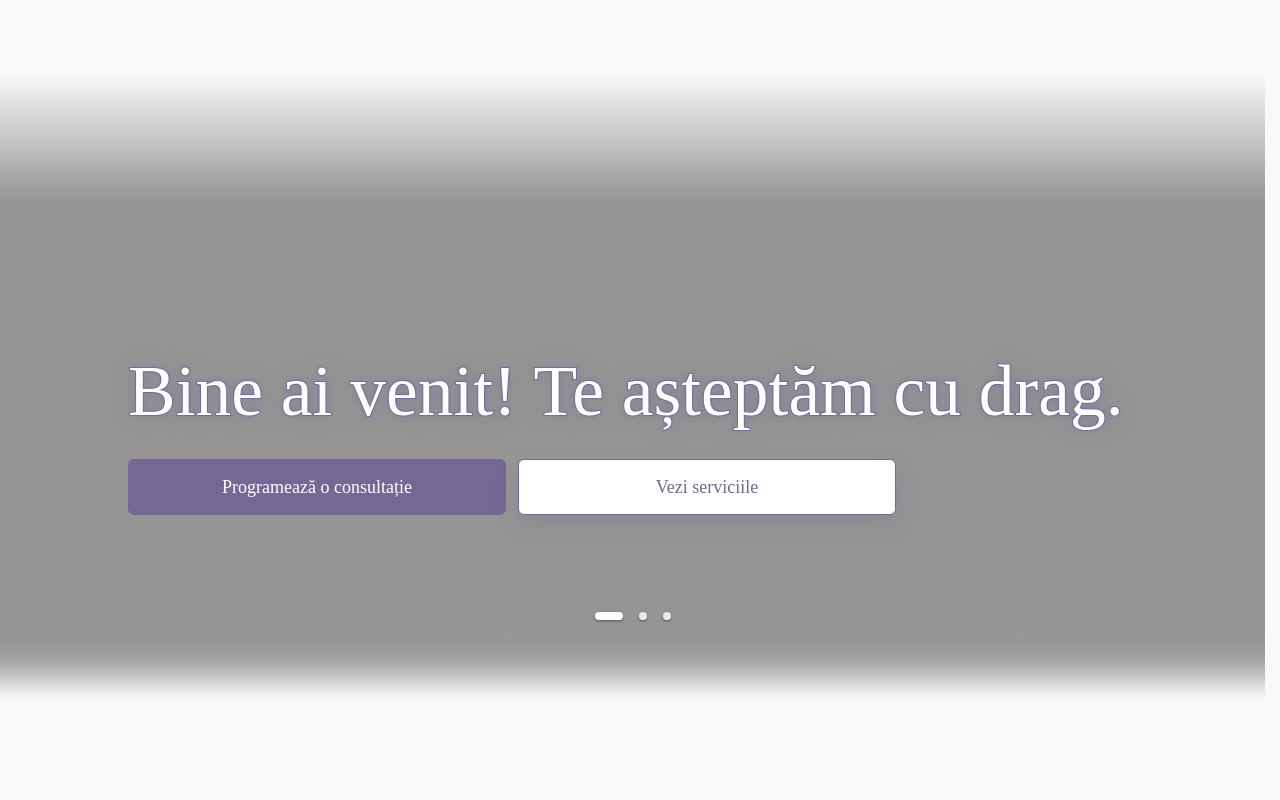
Test: Hero — the two calls to action › the contact button opens the one dialog the provider renders
Click the button "Programează o consultație" at (317, 487), box [128, 459, 506, 515]
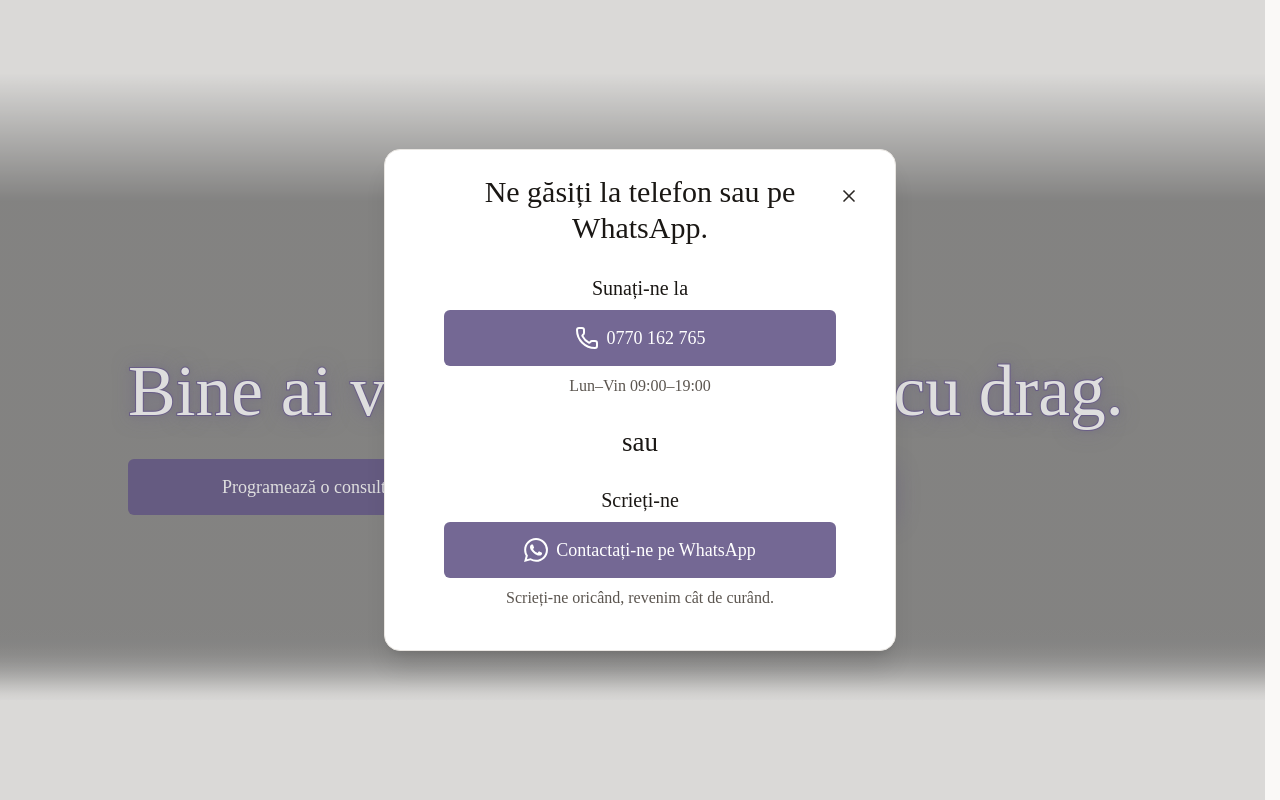
Check: the dialog is shown, box [384, 149, 896, 651]
